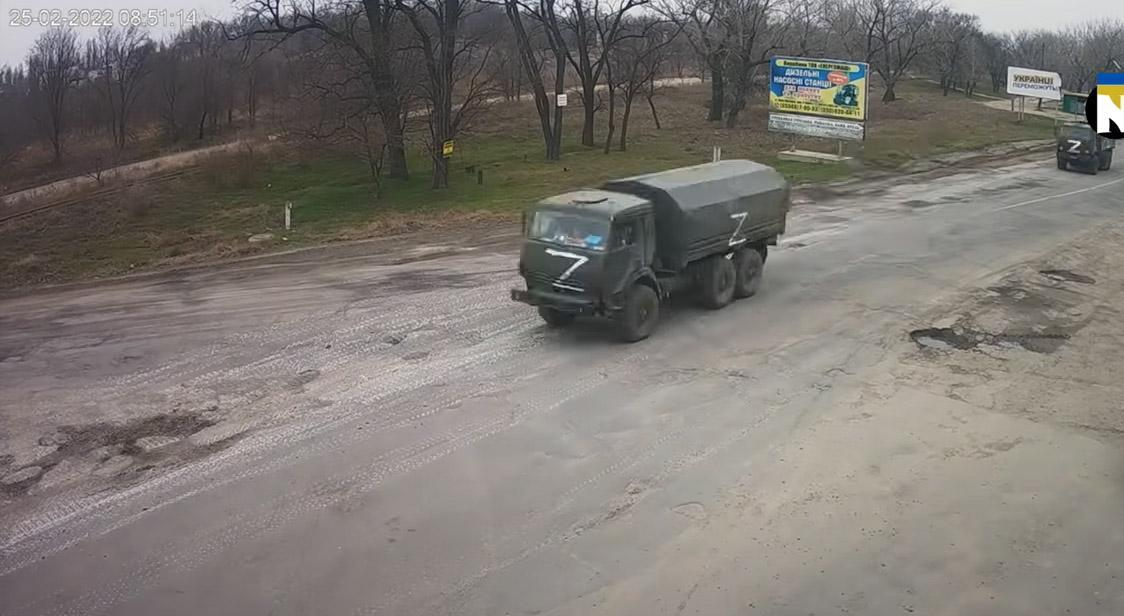truck: (513, 160, 792, 344), (1056, 120, 1112, 176)
